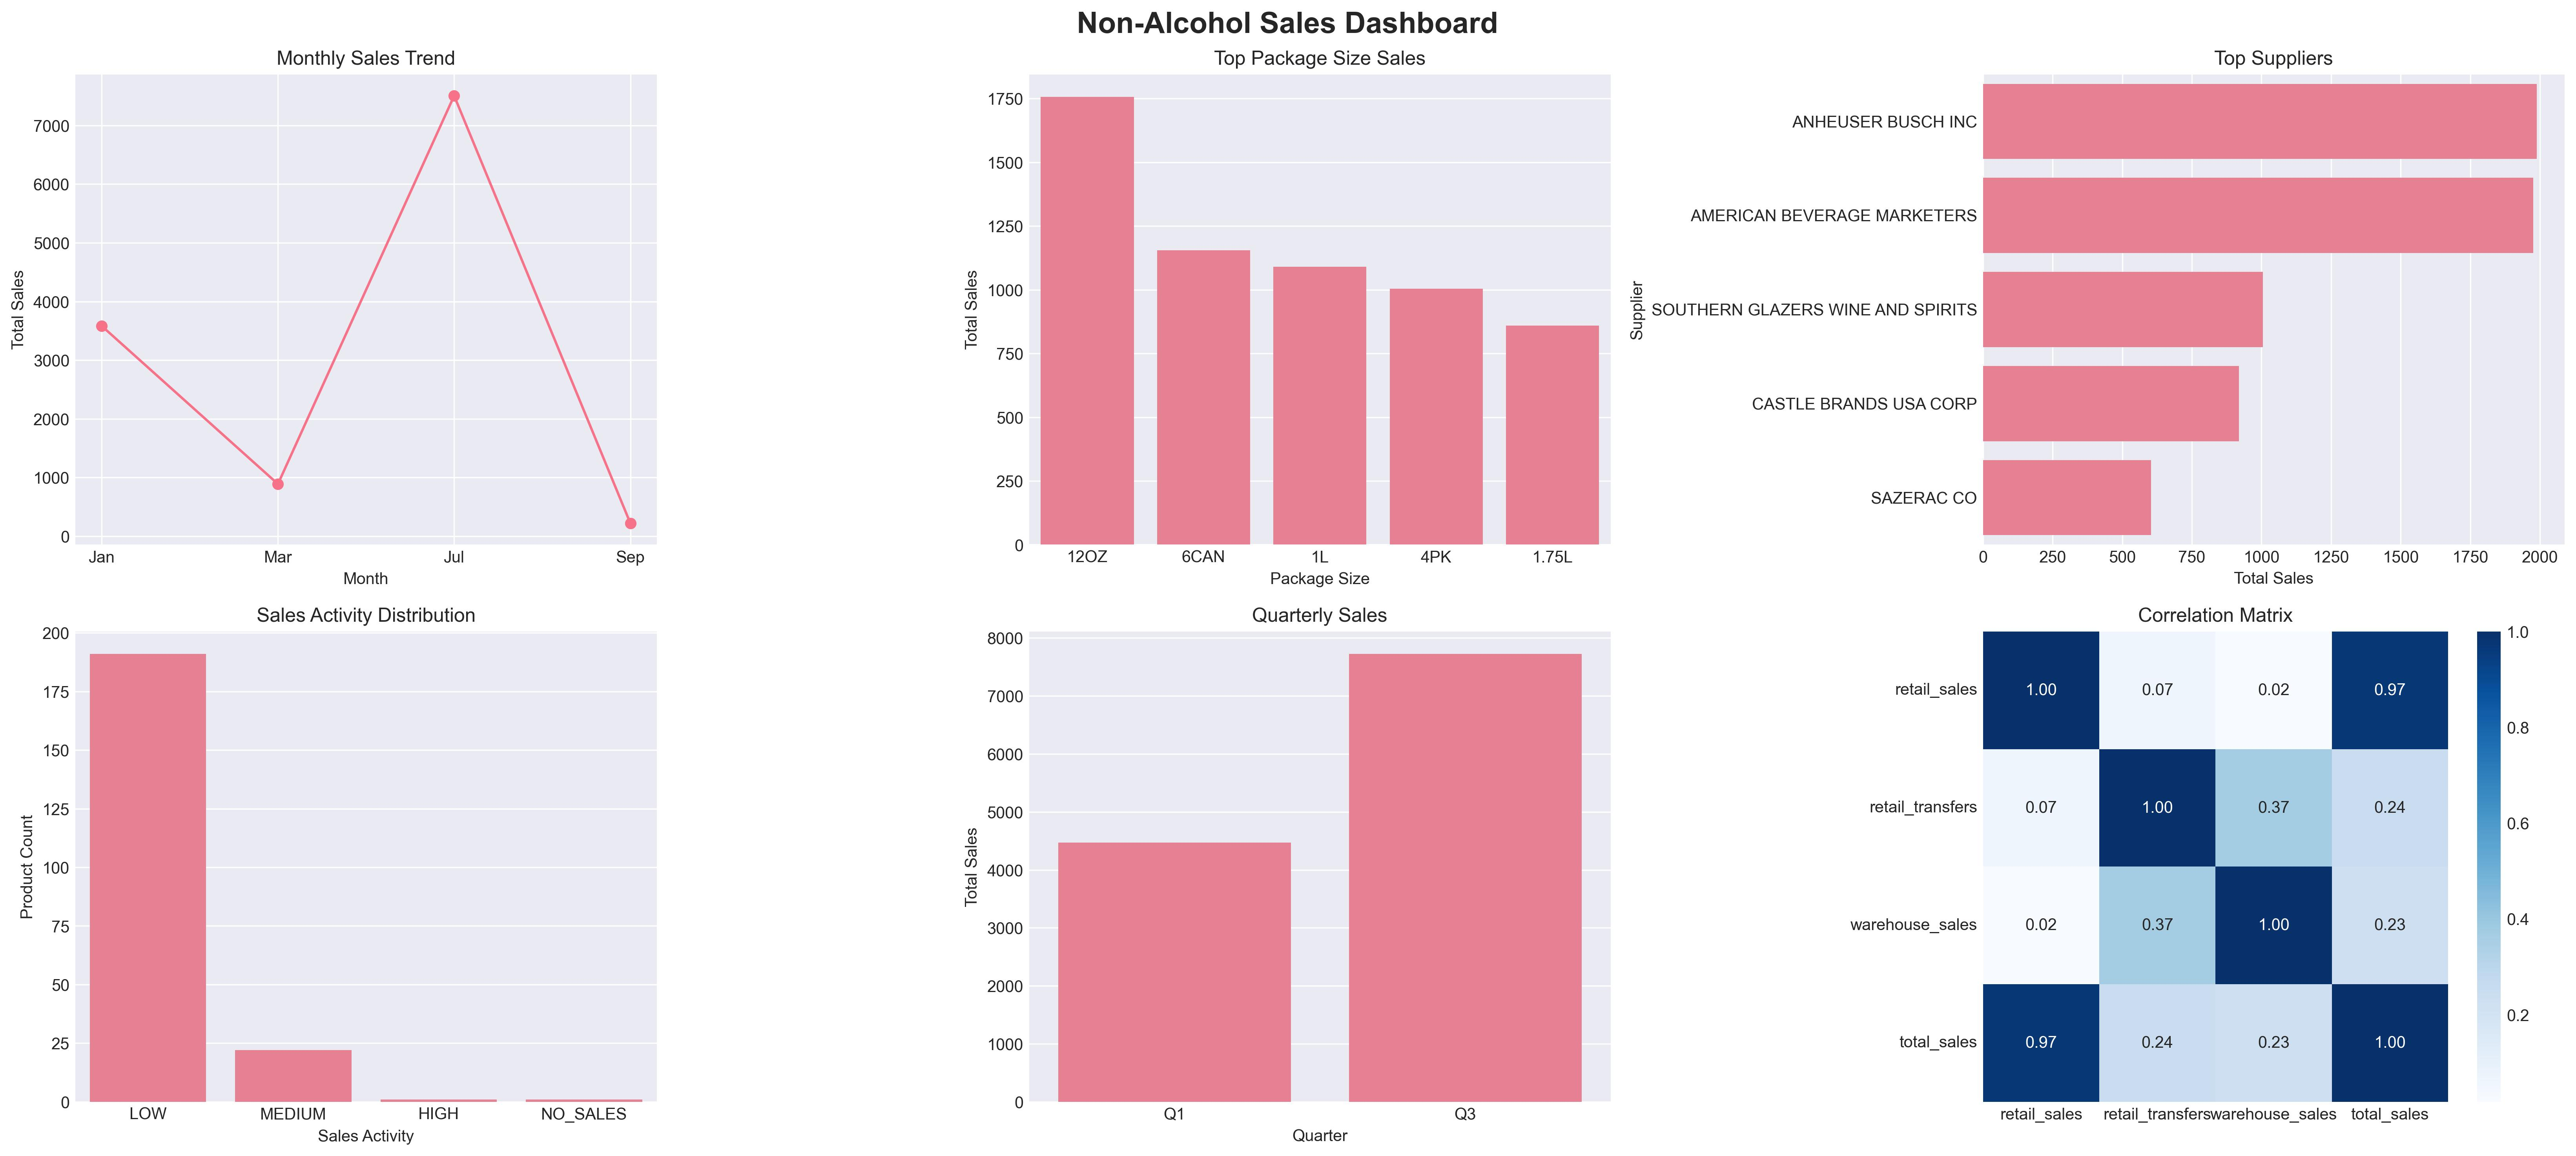

The page's visual inventory and layout, read from the dashboard file:
{"tool":"powerbi","page":{"name":"Non-Alcohol Analysis","canvas":[1280,720],"ordinal":2},"visuals":[{"type":"textbox","box":[0,0,1280,58.6],"z":0},{"type":"cardVisual","title":"TOTAL NON-ALCOHOL SALES","fields":{"Data":["non_alcohol_data_processed.NonAlcohol Total Sales"]},"box":[96.1,68.6,280,59],"z":0,"group":"g1"},{"type":"shape","box":[0,59,85.1,661.4],"z":1000},{"type":"cardVisual","title":"TOTAL NON-ALCOHOL ITEMS","fields":{"Data":["non_alcohol_data_processed.NonAlcohol Total Items"]},"box":[394.3,68.6,280,59],"z":1000,"group":"g1"},{"type":"cardVisual","title":"TOTAL PACKAGE SIZES","fields":{"Data":["non_alcohol_data_processed.NonAlcohol Package Sizes"]},"box":[692.5,68.6,280,59],"z":2000,"group":"g1"},{"type":"textbox","box":[0,68.8,85.7,33.8],"z":2000},{"type":"cardVisual","title":"TOP SUPPLIER","fields":{"Data":["Min(non_alcohol_data_processed.supplier)"]},"box":[990.8,68.6,279.9,58.7],"z":3000,"group":"g1"},{"type":"actionButton","box":[0,208.7,85.7,48.3],"z":3000},{"type":"actionButton","box":[0,150.8,85.7,48.3],"z":4000},{"type":"actionButton","box":[0,265.4,85.7,47.1],"z":5000},{"type":"slicer","title":"Quarter","fields":{"Values":["non_alcohol_data_processed.quarter"]},"box":[0,360,85.7,60],"z":6000},{"type":"actionButton","box":[0,94.1,85.7,48.3],"z":7000},{"type":"textbox","box":[0,325.7,85.7,33.8],"z":8000},{"type":"group","id":"g1","title":"Group 1","box":[96.1,68.6,1174.6,59],"z":9000},{"type":"lineChart","title":"MONTHLY NON-ALCOHOL SALES TREND","fields":{"Y":["Sum(non_alcohol_data_processed.total_sales)"],"Category":["non_alcohol_data_processed.Month Name"]},"box":[96.1,142.7,688.9,200.3],"z":10000,"group":"g2"},{"type":"shape","box":[0,341.4,85.7,28.6],"z":10000},{"type":"clusteredBarChart","title":"TOP 5 NON-ALCOHOL PRODUCTS BY SALES","fields":{"Y":["Sum(non_alcohol_data_processed.total_sales)"],"Category":["non_alcohol_data_processed.item_description"]},"box":[96.1,352.7,539,177.4],"z":10000,"group":"g3"},{"type":"donutChart","title":"RETAIL VS WAREHOUSE  CONTRIBUTION","fields":{"Y":["Sum(non_alcohol_data_processed.warehouse_sales)","Sum(non_alcohol_data_processed.retail_sales)"]},"box":[794.6,142.7,476.1,200.3],"z":11000,"group":"g2"},{"type":"clusteredBarChart","title":"TOP 5 ALCOHOL SUPPLIERS BY SALES","fields":{"Y":["Sum(alcohol_data_processed.total_sales)"],"Category":["alcohol_data_processed.supplier"]},"box":[650.4,531,539.3,177],"z":11000},{"type":"clusteredBarChart","title":"TOP 5 NON-ALCOHOL SUPPLIERS BY SALES","fields":{"Y":["Sum(non_alcohol_data_processed.total_sales)"],"Category":["non_alcohol_data_processed.supplier"]},"box":[97.1,536.2,538.9,171.9],"z":11000,"group":"g3"},{"type":"group","id":"g2","title":"Group 2","box":[96.1,142.7,1174.6,200.3],"z":12000},{"type":"group","id":"g3","title":"Group 3","box":[96.1,352.7,1174.6,355.4],"z":13000},{"type":"treemap","title":"PACKAGE SIZE SALES CONTRIBUTION","fields":{"Values":["Sum(non_alcohol_data_processed.total_sales)"],"Group":["non_alcohol_data_processed.package_size"]},"box":[646,352.7,624.7,354.7],"z":14000,"group":"g3"},{"type":"textbox","box":[1077.2,690.2,193.5,30.2],"z":14000},{"type":"textbox","box":[0,536.5,85.1,171.5],"z":15000}]}

Visuals, with their boxes on the page's 1280x720 design canvas (x1, y1, x2, y2). These are canvas units, not pixel positions in the 2576x1156 screenshot, which may show the page scaled, cropped or inside an application window:
textbox: box=[0, 0, 1280, 59]
"TOTAL NON-ALCOHOL SALES" cardVisual: box=[96, 69, 376, 128]
shape: box=[0, 59, 85, 720]
"TOTAL NON-ALCOHOL ITEMS" cardVisual: box=[394, 69, 674, 128]
"TOTAL PACKAGE SIZES" cardVisual: box=[692, 69, 972, 128]
textbox: box=[0, 69, 86, 103]
"TOP SUPPLIER" cardVisual: box=[991, 69, 1271, 127]
actionButton: box=[0, 209, 86, 257]
actionButton: box=[0, 151, 86, 199]
actionButton: box=[0, 265, 86, 312]
"Quarter" slicer: box=[0, 360, 86, 420]
actionButton: box=[0, 94, 86, 142]
textbox: box=[0, 326, 86, 360]
"Group 1" group: box=[96, 69, 1271, 128]
"MONTHLY NON-ALCOHOL SALES TREND" lineChart: box=[96, 143, 785, 343]
shape: box=[0, 341, 86, 370]
"TOP 5 NON-ALCOHOL PRODUCTS BY SALES" clusteredBarChart: box=[96, 353, 635, 530]
"RETAIL VS WAREHOUSE  CONTRIBUTION" donutChart: box=[795, 143, 1271, 343]
"TOP 5 ALCOHOL SUPPLIERS BY SALES" clusteredBarChart: box=[650, 531, 1190, 708]
"TOP 5 NON-ALCOHOL SUPPLIERS BY SALES" clusteredBarChart: box=[97, 536, 636, 708]
"Group 2" group: box=[96, 143, 1271, 343]
"Group 3" group: box=[96, 353, 1271, 708]
"PACKAGE SIZE SALES CONTRIBUTION" treemap: box=[646, 353, 1271, 707]
textbox: box=[1077, 690, 1271, 720]
textbox: box=[0, 536, 85, 708]
